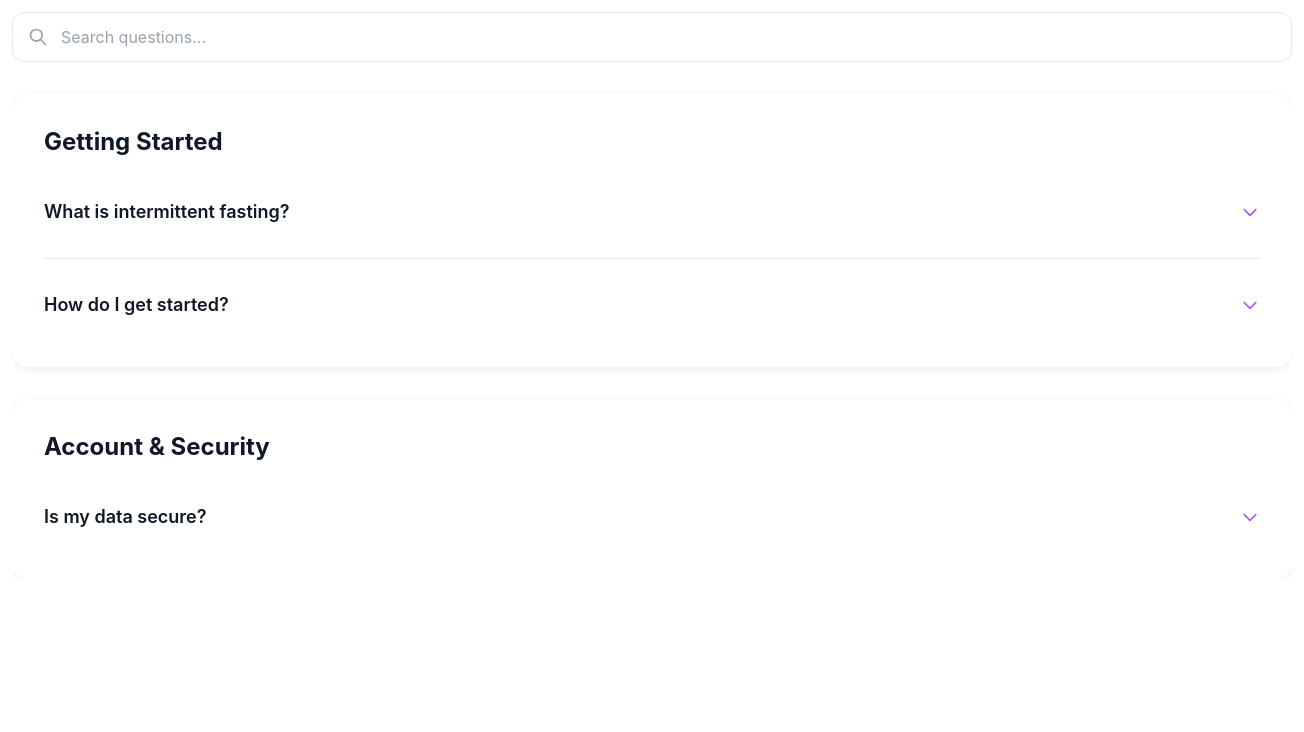
it: FAQList Component › Search Functionality › should filter questions based on search query
Type "secure" into the field with placeholder "Search questions..." at (652, 37), box [12, 12, 1292, 62]
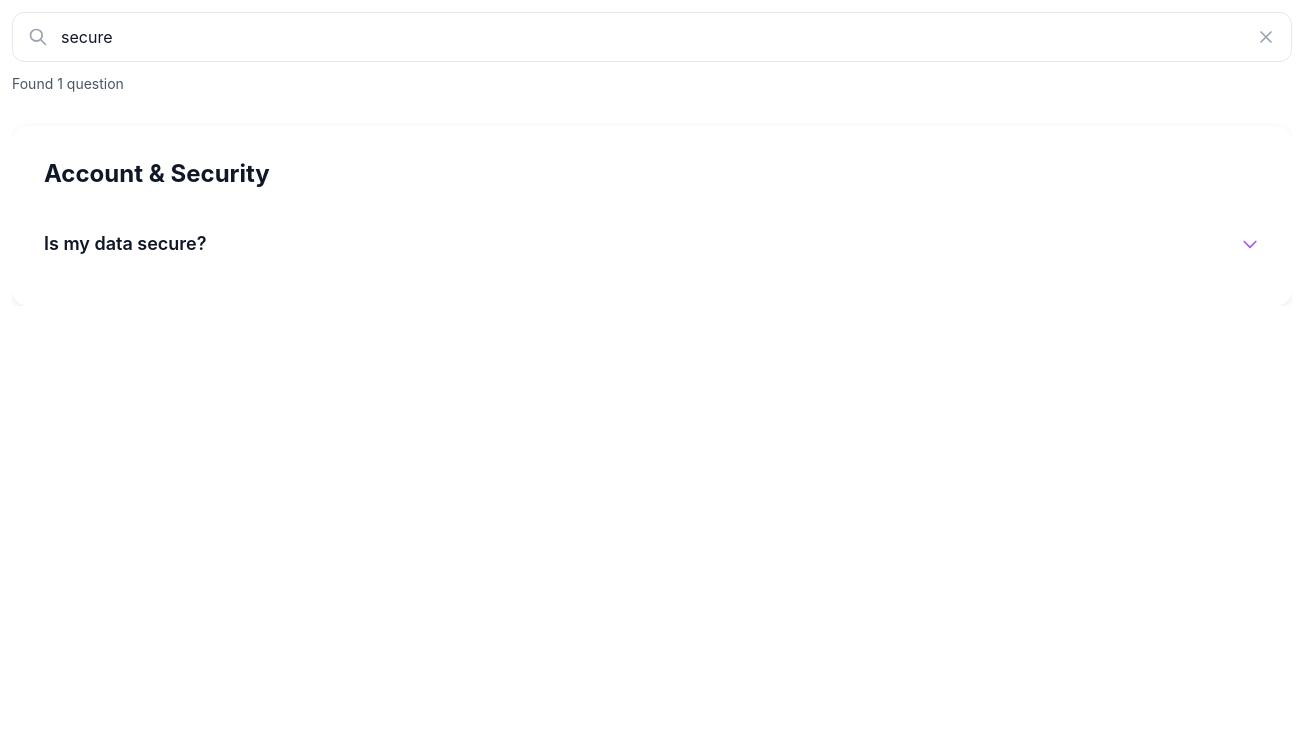
Now the text "Is my data secure?" is shown, box [44, 230, 206, 258]
Now the button "What is intermittent fasting?" is gone
Now the button "How do I get started?" is gone
